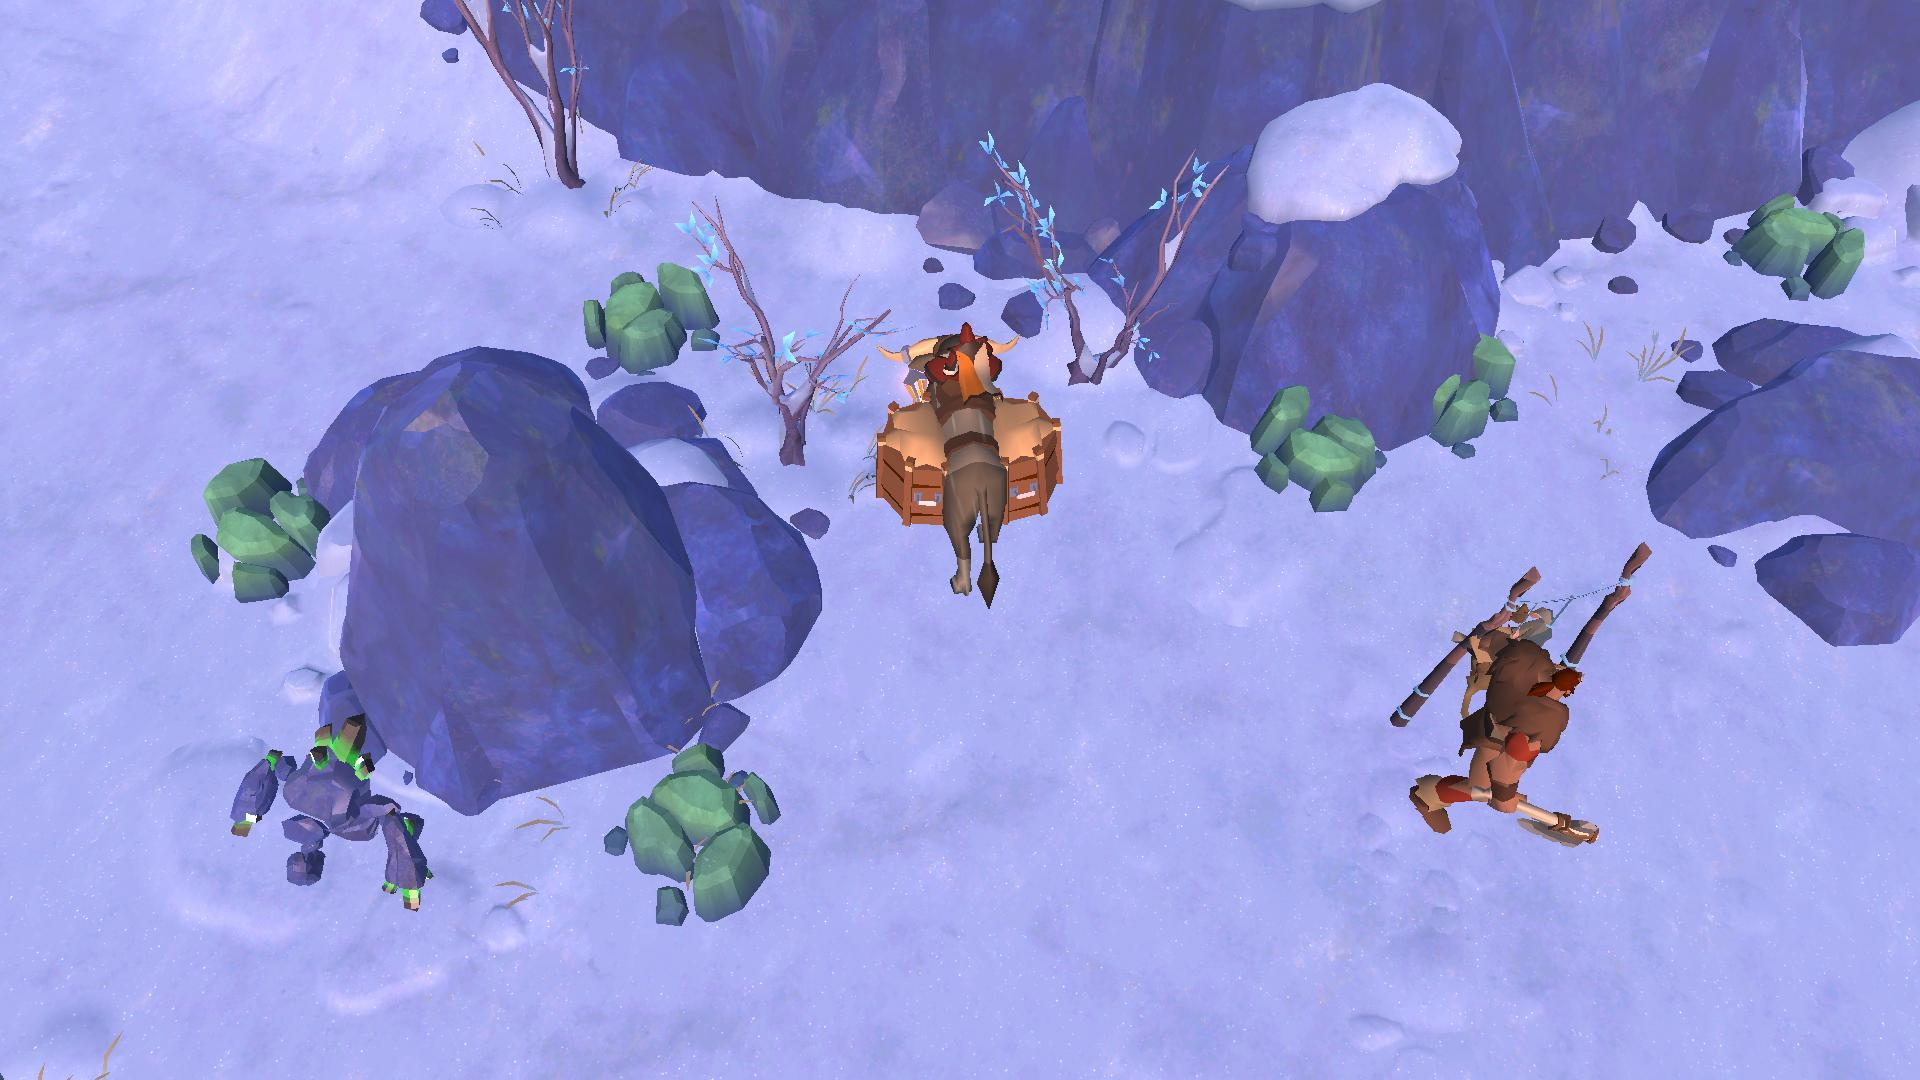enemy_factionKeeper: (1411, 633, 1593, 847)
rock_t3: (604, 732, 781, 936), (179, 446, 328, 608), (1240, 380, 1400, 520), (564, 261, 731, 371), (1718, 202, 1865, 309), (1422, 339, 1526, 472)
